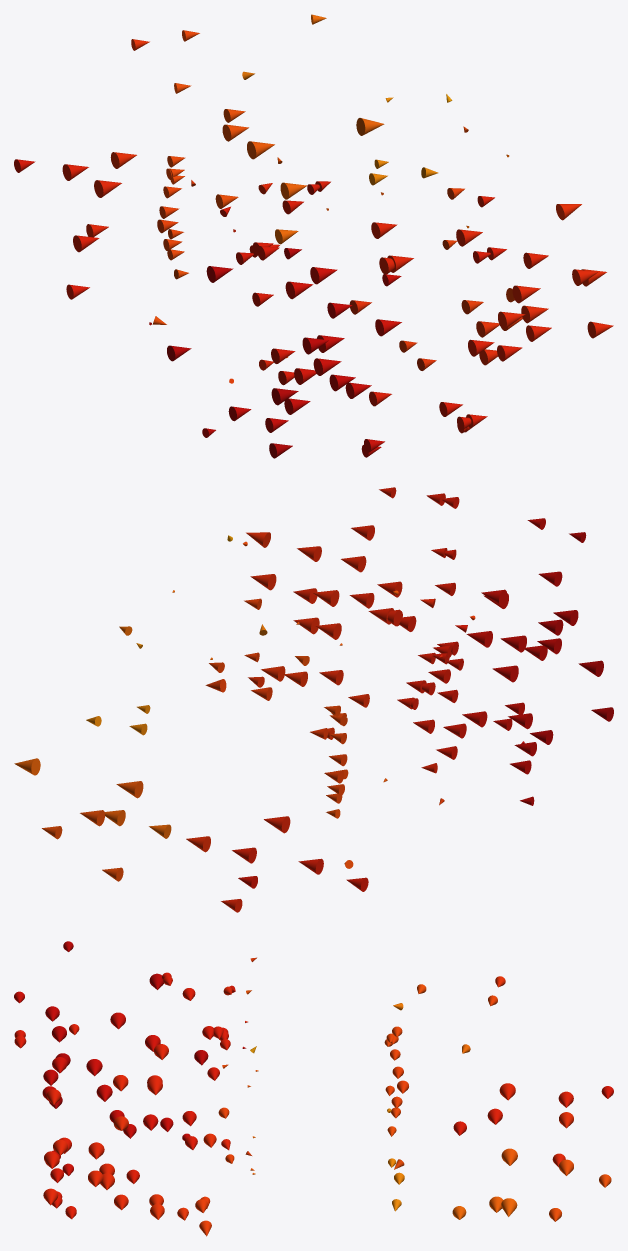
The model's file is LineasCorrienteH2-O2_mh2-8.20_V-1.1.glb.
The picture shows the model from 3 angles, top to bottom: view 1: azimuth 30°, elevation 25°; view 2: azimuth 150°, elevation 25°; view 3: azimuth 270°, elevation 25°; orthographic projection. The views are drawn at different scales.
Bounding box in the file's own units: 0.000811 × 0.000489 × 0.00124.
Materials: 2 (2 with a texture image).
